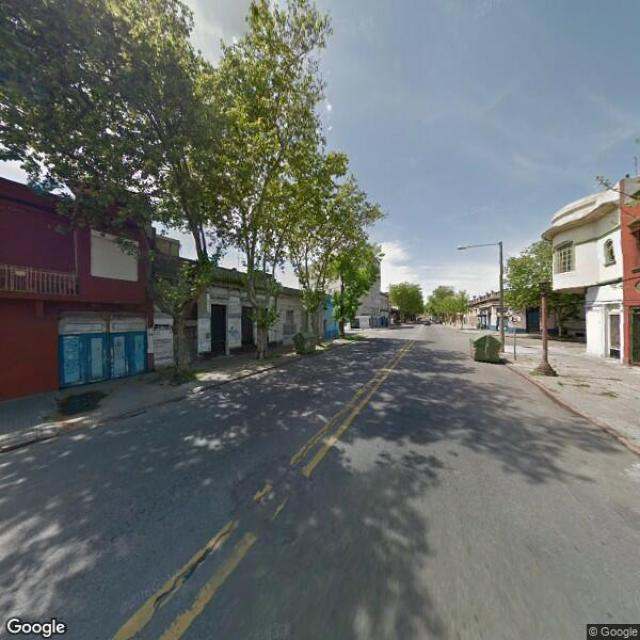garbage container: (461, 329, 506, 368)
